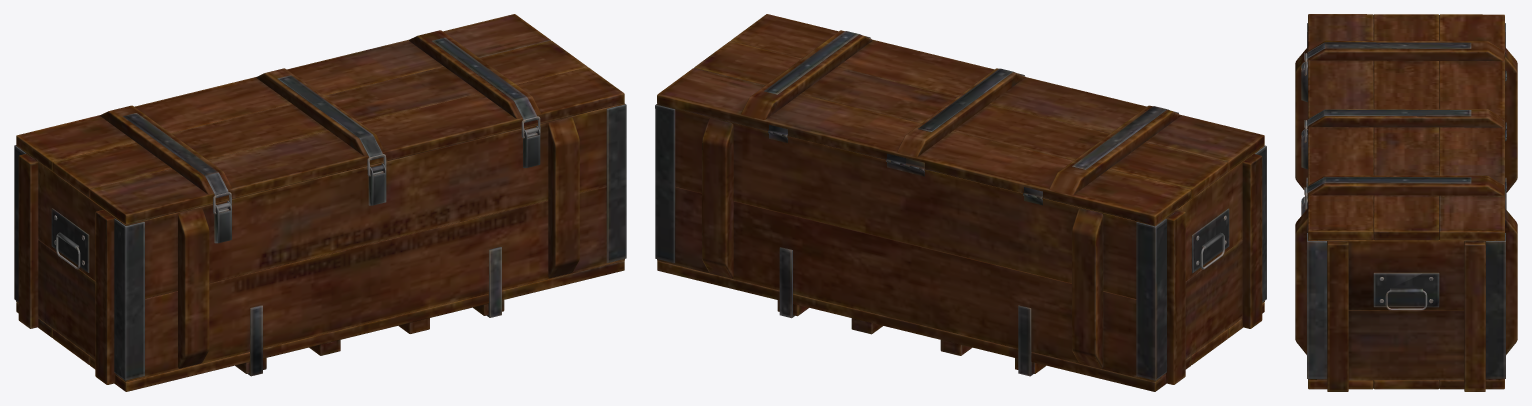
File: wooden_military_crate.glb
3 renders of one model, left to right at view 1: azimuth 30°, elevation 25°; view 2: azimuth 150°, elevation 25°; view 3: azimuth 270°, elevation 25°, orthographic. The views are drawn at different scales.
Visible parts, largest first — view 1: wooden_military_crate, wooden_military_crate_lid; view 2: wooden_military_crate, wooden_military_crate_lid; view 3: wooden_military_crate_lid, wooden_military_crate.
Part boxes in pixels (<box>): wooden_military_crate: <box>14,103,626,391</box>; wooden_military_crate_lid: <box>16,14,624,224</box>; wooden_military_crate: <box>655,104,1266,391</box>; wooden_military_crate_lid: <box>657,14,1264,225</box>; wooden_military_crate_lid: <box>1304,14,1506,240</box>; wooden_military_crate: <box>1295,23,1517,391</box>.
Bounding box in the file's own units: 1.24 × 0.4648 × 0.5198.
Materials: 1 (1 with a texture image).
